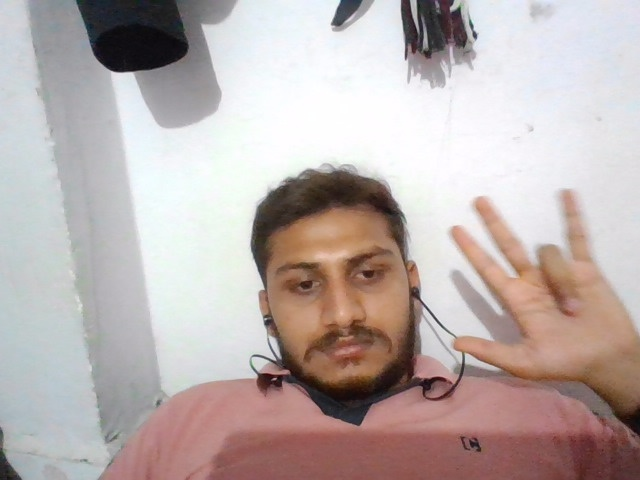ILoveYou: (441, 178, 638, 390)
